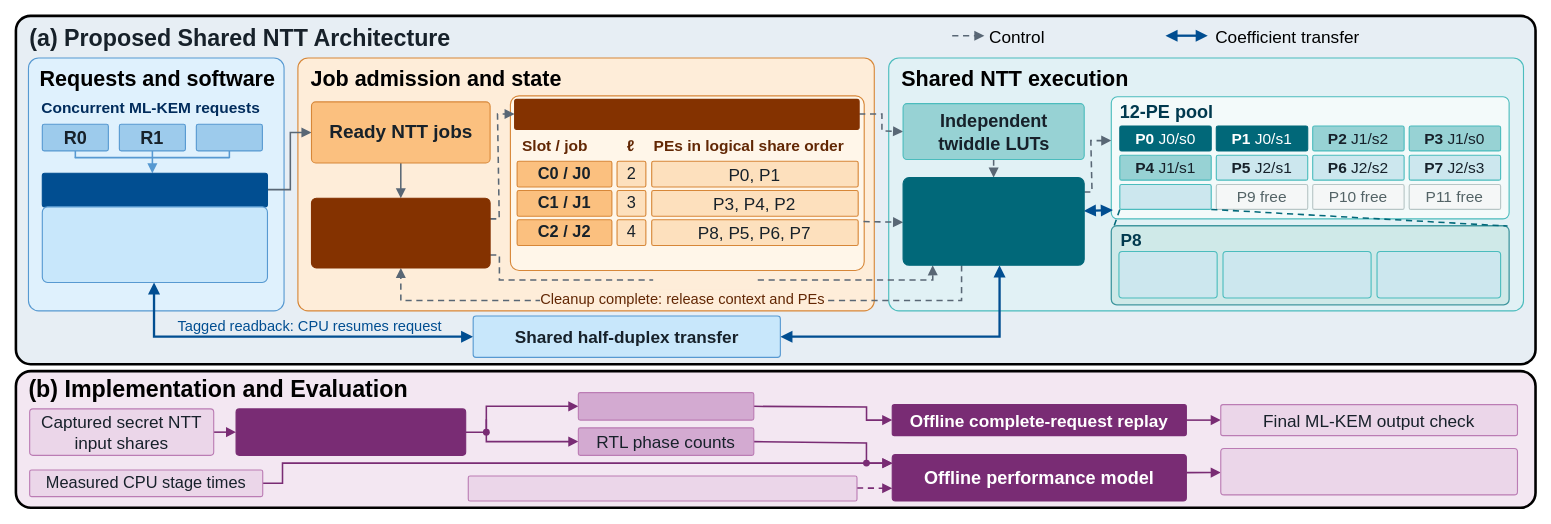
Image size: 1551x524. Some labels were removed from this diagram. The shapes that lost their labels are listed below. From the top down, each one's box as (x1, y1, x2, y2) in pixels, then its label:
(514, 98, 859, 130): 6 independent job contexts
(195, 123, 263, 151): R2
(41, 172, 268, 207): Trusted CPU
(1119, 184, 1211, 210): P8 J2/s0
(311, 197, 490, 268): Atomic allocation 1 context and one eligible PE per share
(902, 177, 1084, 265): Context-to-PE selector Address · twiddle Phase · read/write
(41, 206, 268, 283): Remaining ML-KEM stages
(653, 270, 756, 289): PE ownership
(1118, 251, 1217, 298): Butterfly datapath
(1222, 251, 1371, 298): 256 × 12-bit coefficient bank
(1376, 251, 1501, 298): Temporary registers
(577, 392, 754, 420): RTL output shares
(235, 408, 466, 456): NTT RTL implementation Single-owner forward NTT
(467, 475, 857, 501): Allocation, transfer and cleanup rules from (a)
(1220, 448, 1518, 495): Batch completion time and throughput
